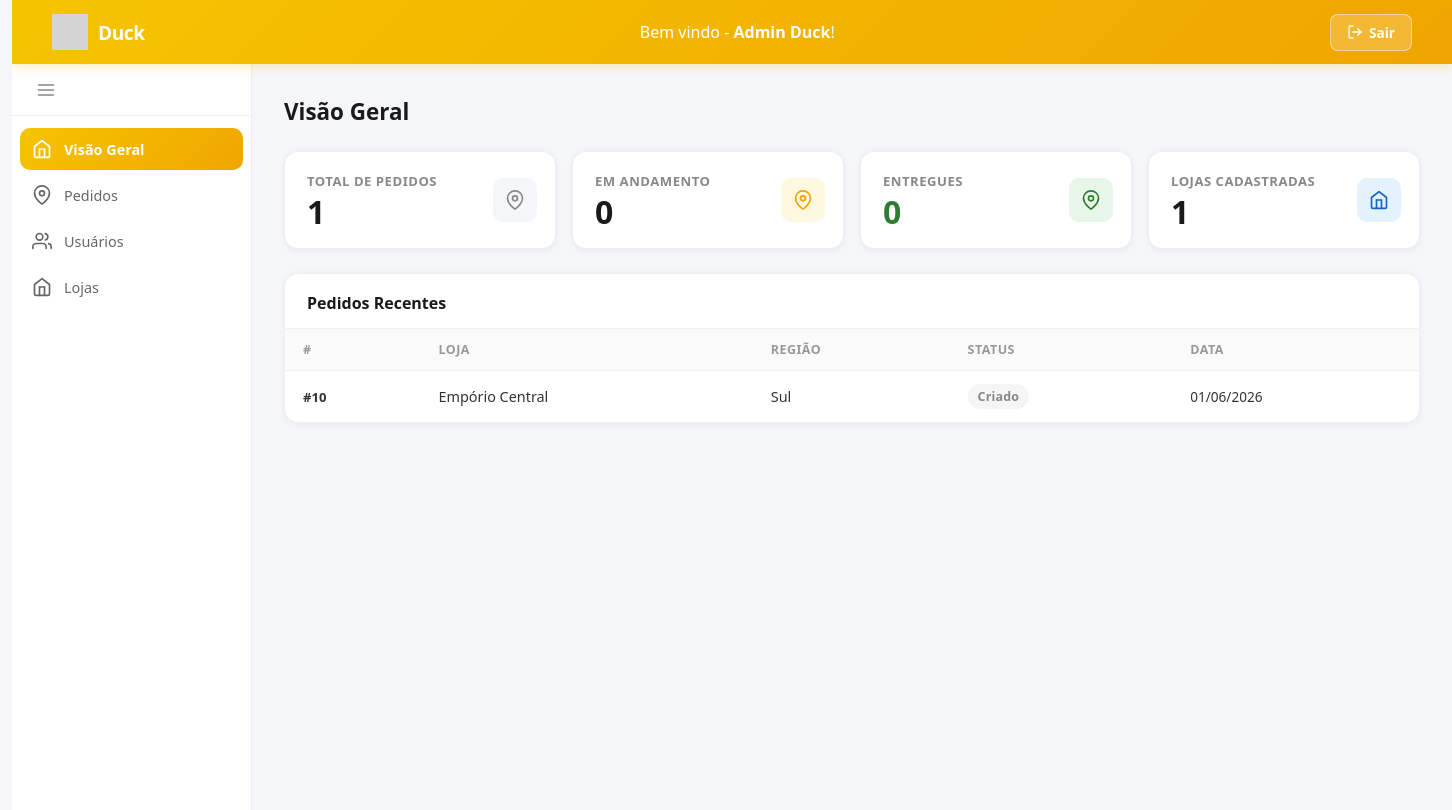
Test: Dashboard (admin) › permite ao operador visualizar lojas sem acoes de gerenciamento
Expected: the heading "Pedidos Recentes" is shown, [285,274,1419,329]
Click the button "Lojas" at (132, 287), box [20,266,243,308]
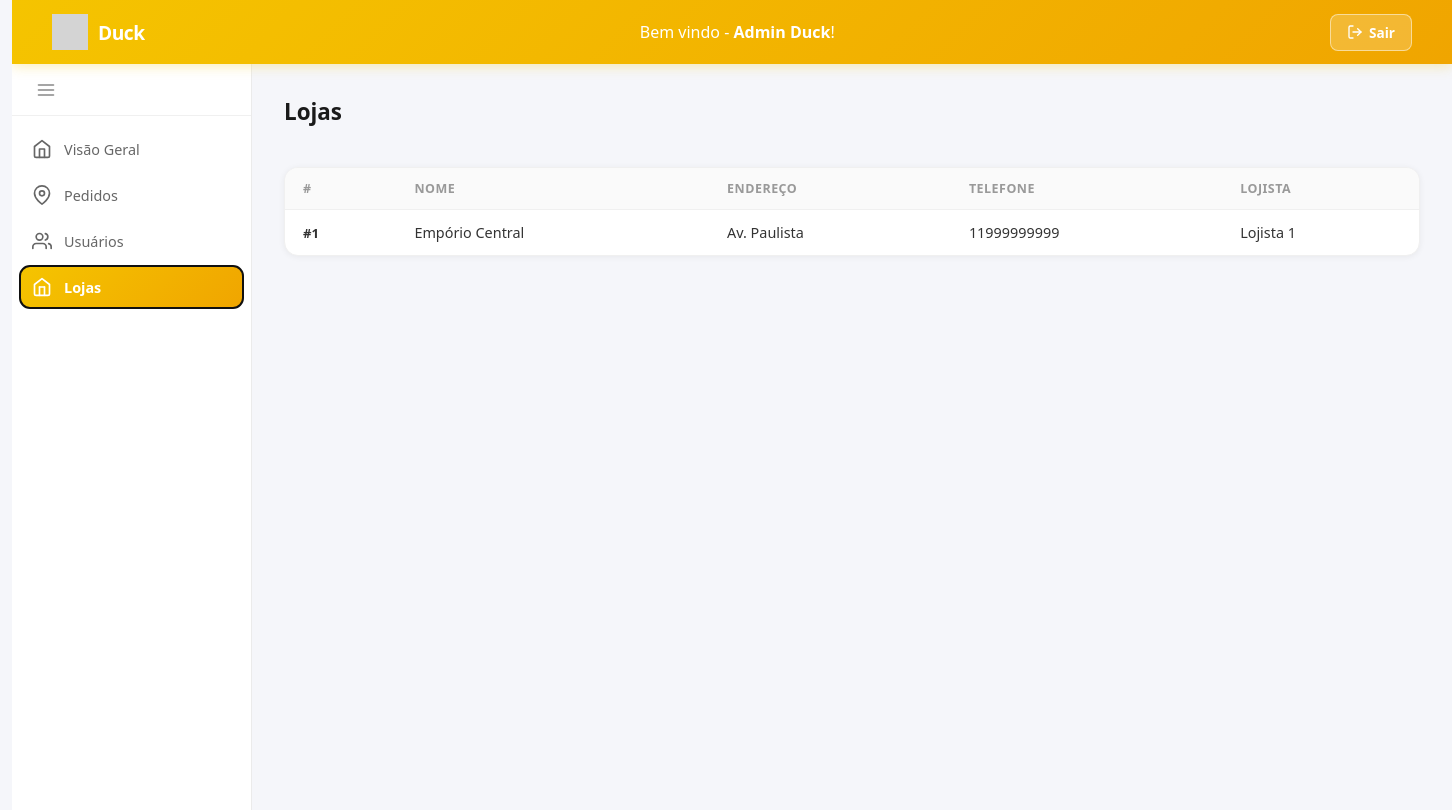
Expected: the text "Empório Central" is shown, [396,210,709,255]
Result: the text "Lojista 1" is shown at [1222,210,1419,255]
